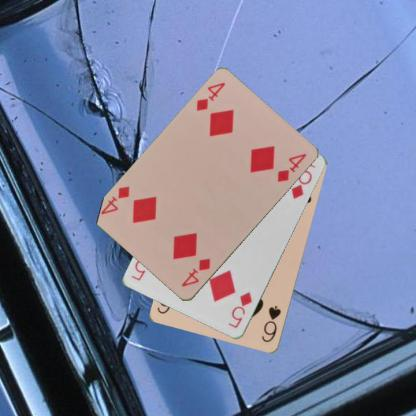4d: (179, 256, 212, 288), (194, 80, 227, 112)
5d: (225, 289, 254, 330)
6s: (259, 304, 282, 344)
